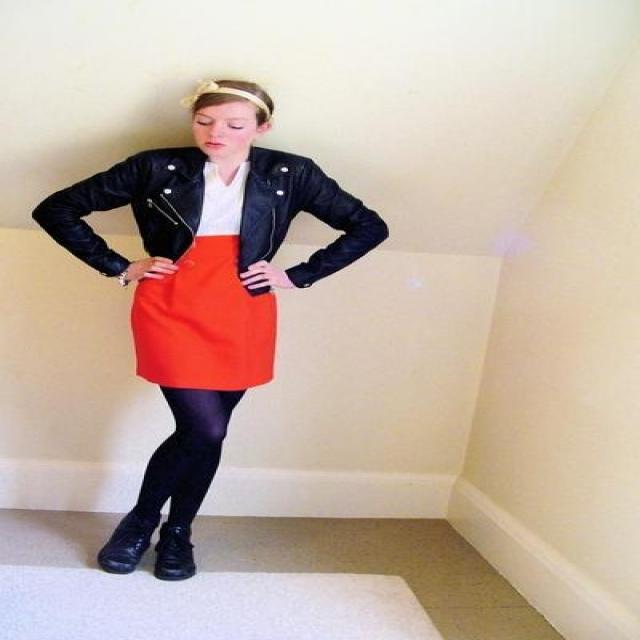jacket: (32, 145, 387, 296)
shirt: (195, 175, 242, 235)
shoe: (109, 508, 195, 580)
skirt: (131, 235, 275, 389)
